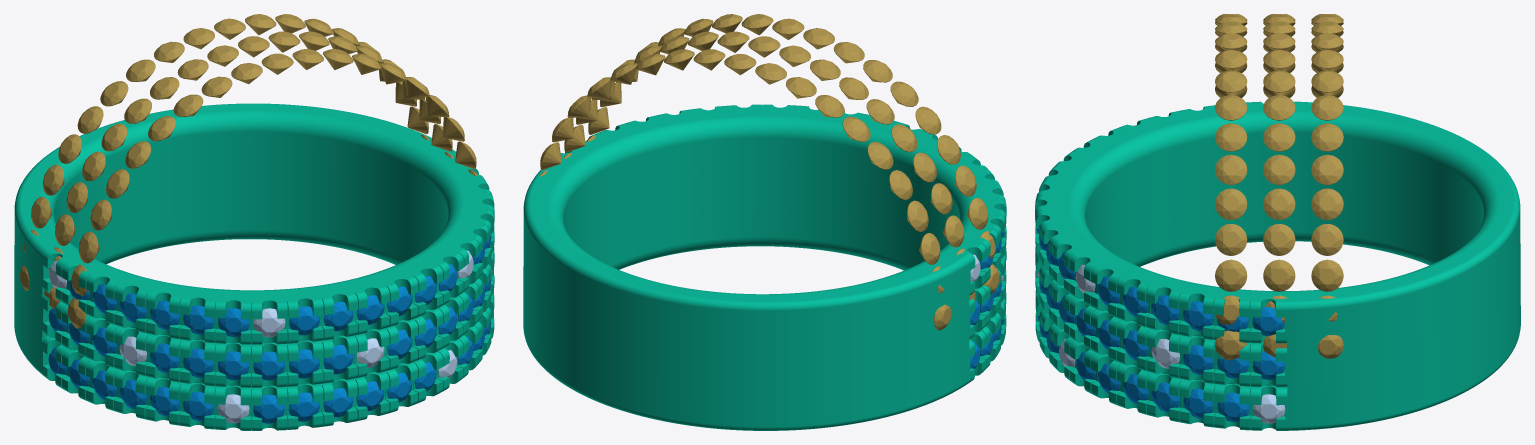
The picture shows the model from 3 angles, left to right: view 1: azimuth 30°, elevation 25°; view 2: azimuth 150°, elevation 25°; view 3: azimuth 270°, elevation 25°; orthographic projection.
Parts seen in each view (by area): view 1: VR923 - N D1(base).3dm, Diamond_Round (×54); view 2: VR923 - N D1(base).3dm, Diamond_Round (×27); view 3: VR923 - N D1(base).3dm, Diamond_Round (×41).
Boxes of the visible parts, box(x1,y1,x2,y2) form: VR923 - N D1(base).3dm: box(14, 103, 494, 430); Diamond_Round (×54): box(31, 18, 412, 423); VR923 - N D1(base).3dm: box(523, 104, 1006, 430); Diamond_Round (×27): box(724, 18, 988, 264); VR923 - N D1(base).3dm: box(1035, 101, 1520, 430); Diamond_Round (×41): box(1122, 49, 1343, 423).
Size of the model in its own units: 2.77 by 1.86 by 2.77.
